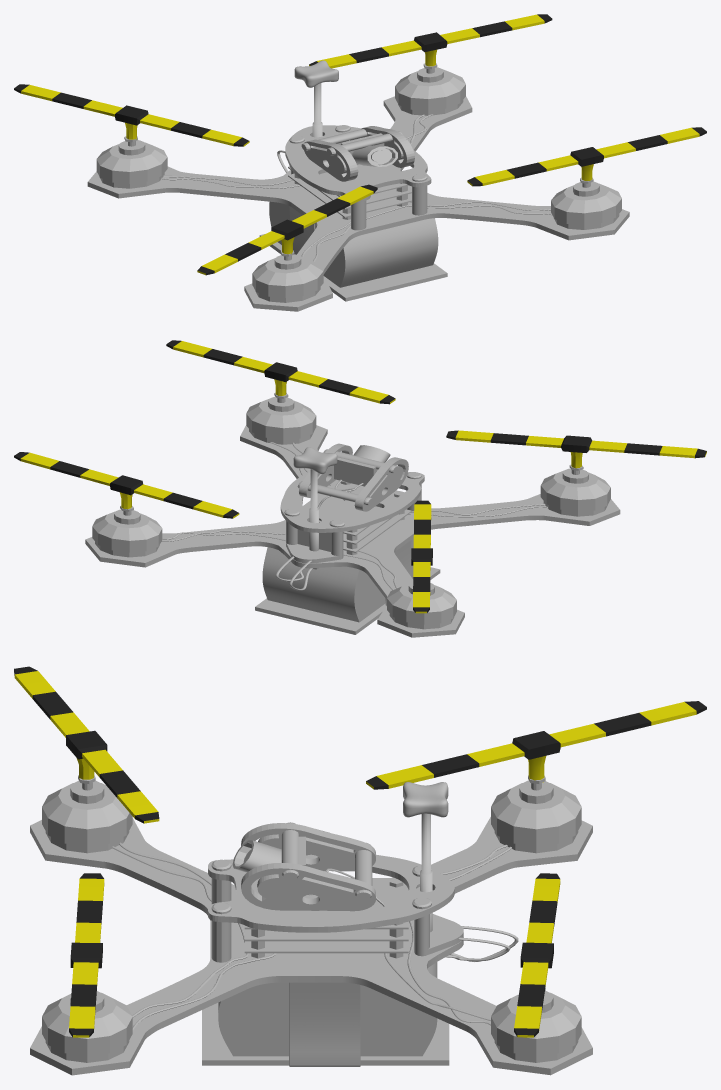
Rendered from bjeliszutimpropelerima.fbx.
3 views of the same model, one above another, from view 1: azimuth 30°, elevation 25°; view 2: azimuth 150°, elevation 25°; view 3: azimuth 270°, elevation 25° (orthographic). The views are drawn at different scales.
Parts seen in each view (by area): view 1: Drone, drone_costum_Cube.002, drone_costum_Cube.001, drone_costum_Cube.004, drone_costum_Cube.003; view 2: Drone, drone_costum_Cube.003, drone_costum_Cube.002, drone_costum_Cube.004, drone_costum_Cube.001; view 3: Drone, drone_costum_Cube.001, drone_costum_Cube.003, drone_costum_Cube.004, drone_costum_Cube.002.
Boxes of the visible parts, x1=… form: Drone: x1=87, y1=60, x2=629, y2=311; drone_costum_Cube.002: x1=467, y1=127, x2=706, y2=186; drone_costum_Cube.001: x1=14, y1=84, x2=249, y2=146; drone_costum_Cube.004: x1=309, y1=14, x2=552, y2=68; drone_costum_Cube.003: x1=197, y1=184, x2=377, y2=275; Drone: x1=85, y1=392, x2=620, y2=637; drone_costum_Cube.003: x1=446, y1=430, x2=706, y2=468; drone_costum_Cube.002: x1=166, y1=340, x2=395, y2=404; drone_costum_Cube.004: x1=14, y1=452, x2=239, y2=518; drone_costum_Cube.001: x1=411, y1=500, x2=432, y2=613; Drone: x1=30, y1=775, x2=592, y2=1075; drone_costum_Cube.001: x1=366, y1=701, x2=706, y2=789; drone_costum_Cube.003: x1=14, y1=666, x2=159, y2=823; drone_costum_Cube.004: x1=514, y1=873, x2=560, y2=1037; drone_costum_Cube.002: x1=69, y1=873, x2=104, y2=1037.
Size of the model in its own units: 1037 by 317 by 823.
